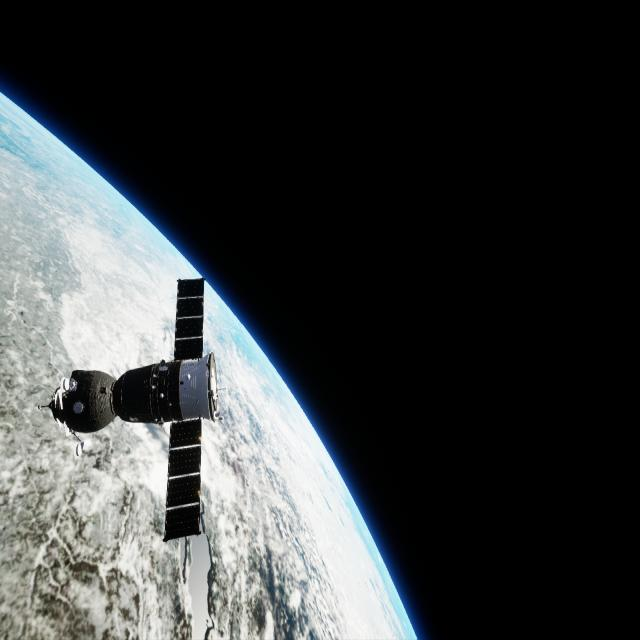Satellites revolving around earth: (1, 91, 418, 638), (40, 275, 224, 544)
